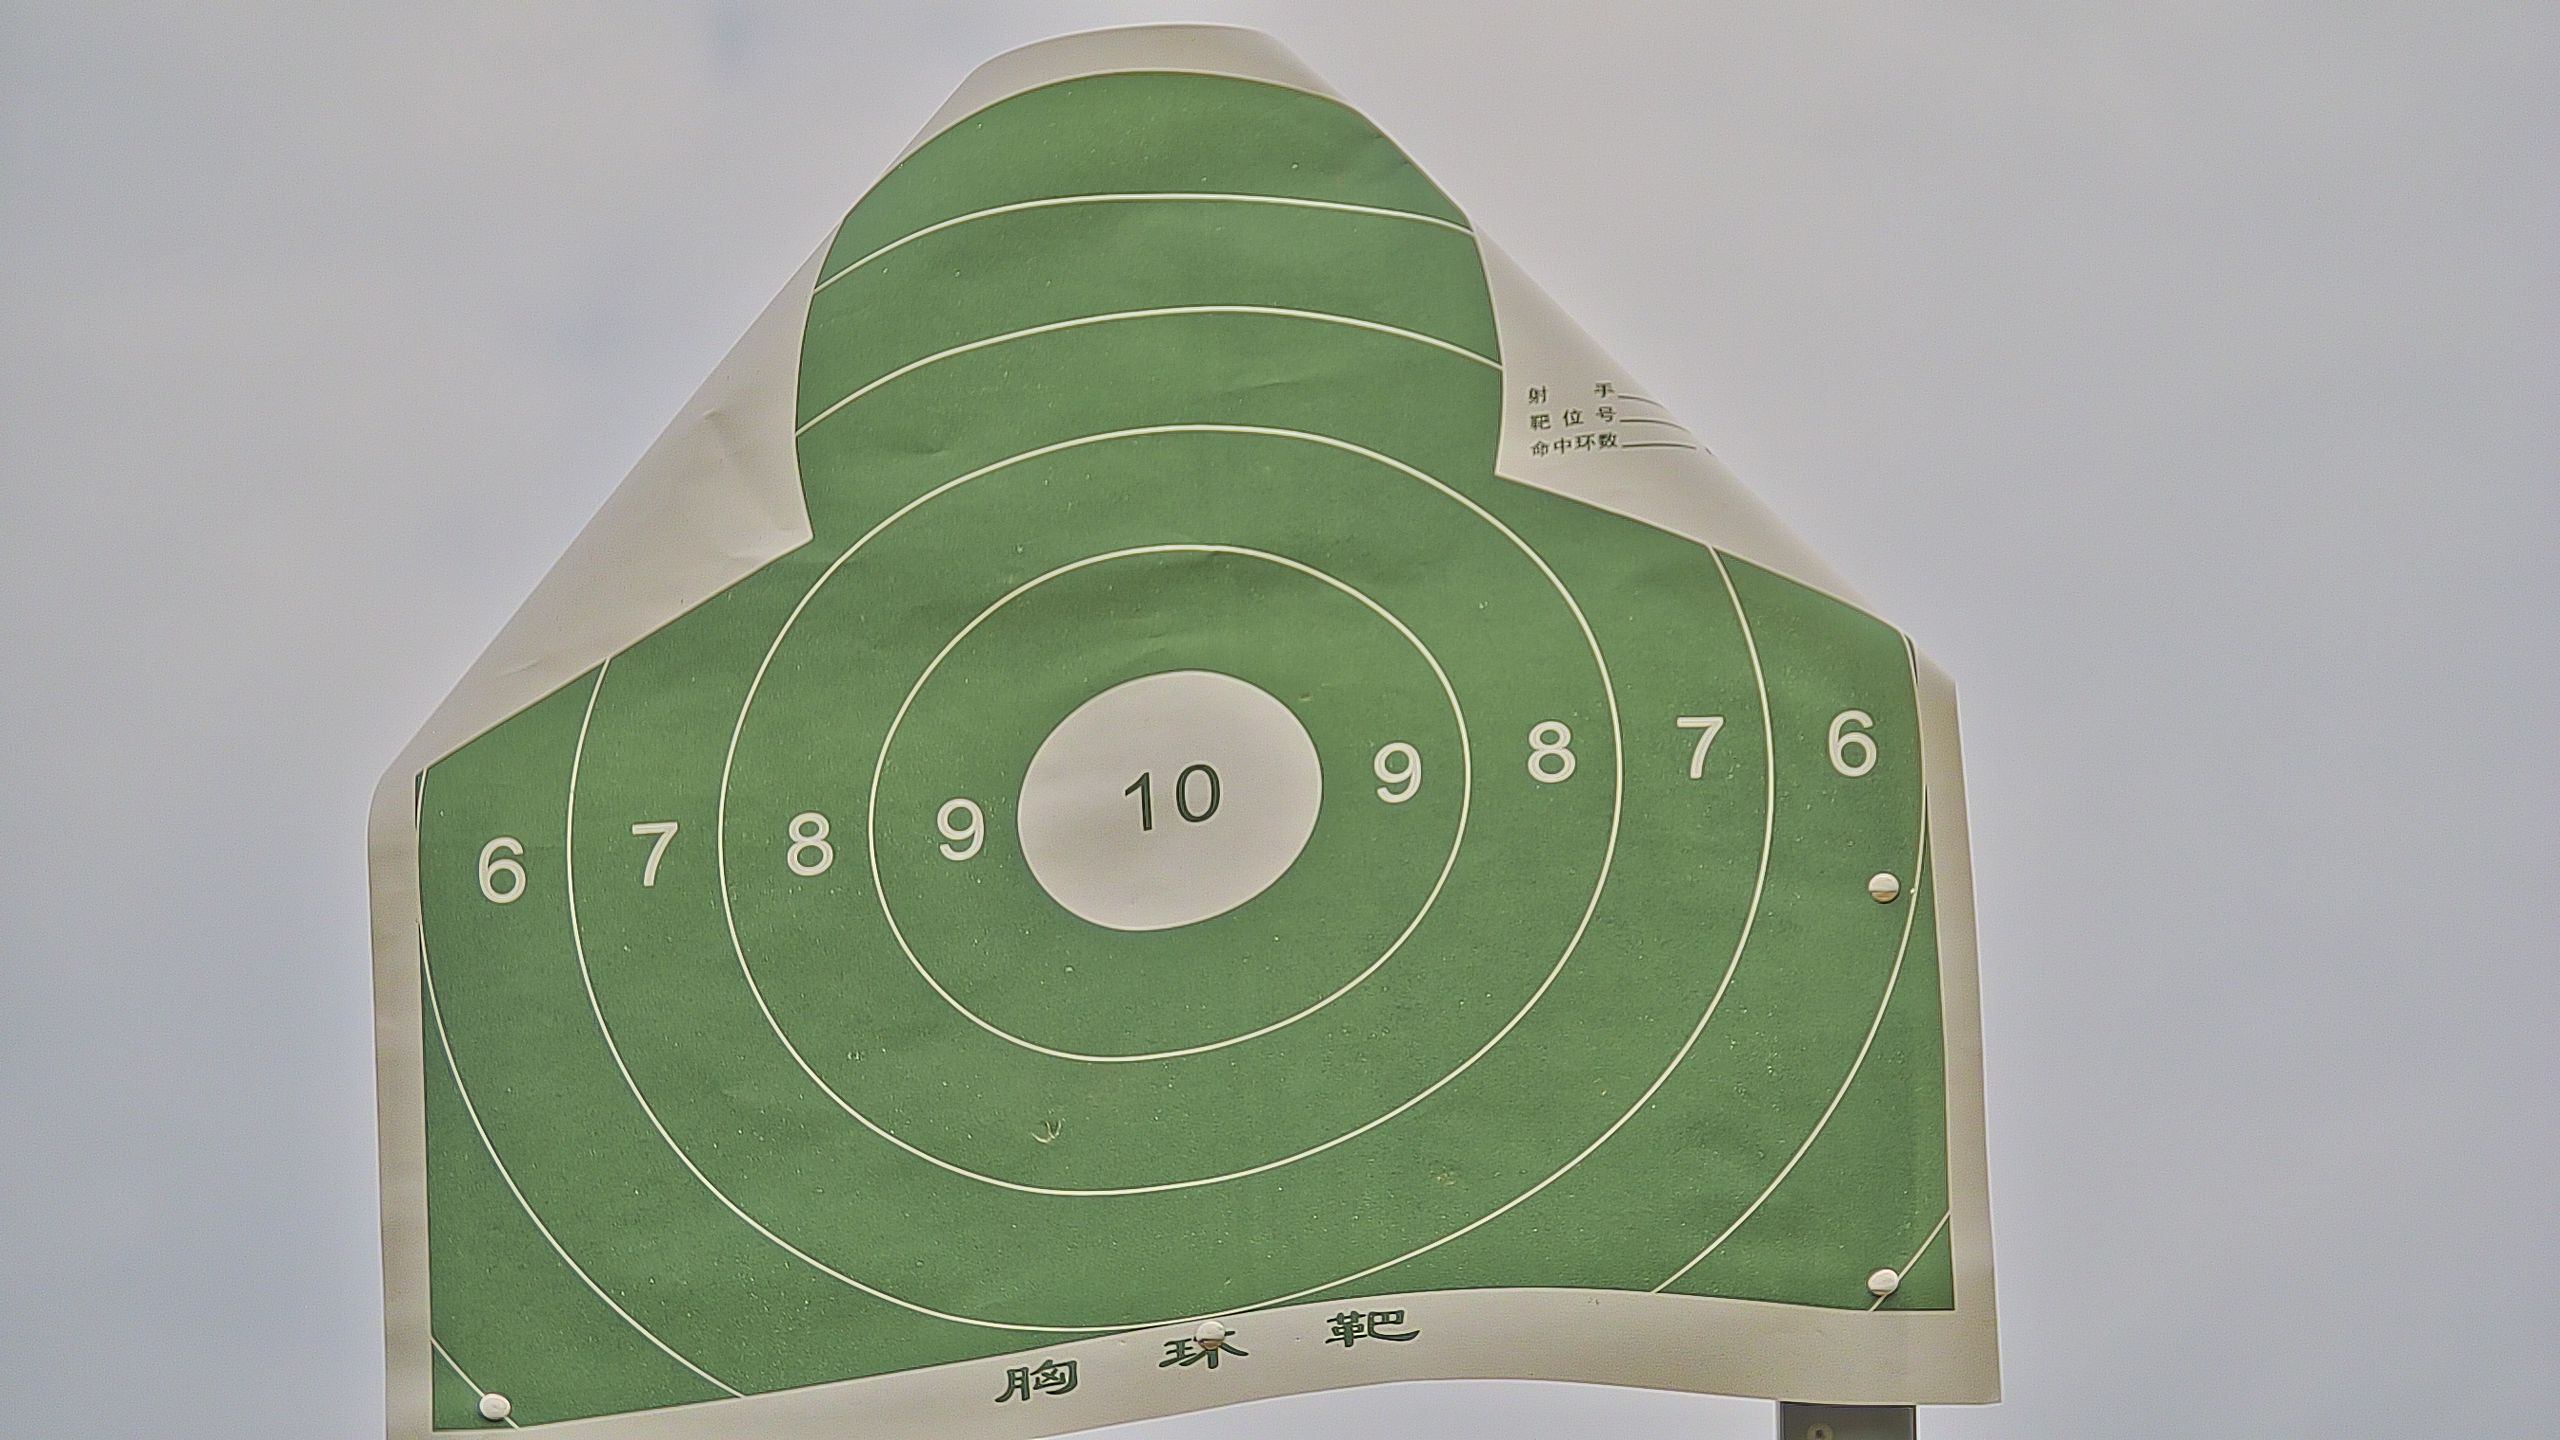target: (415, 74, 1953, 1440)
ten: (1020, 672, 1329, 937)
